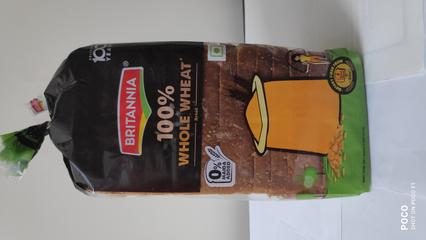bread: (48, 40, 369, 201)
